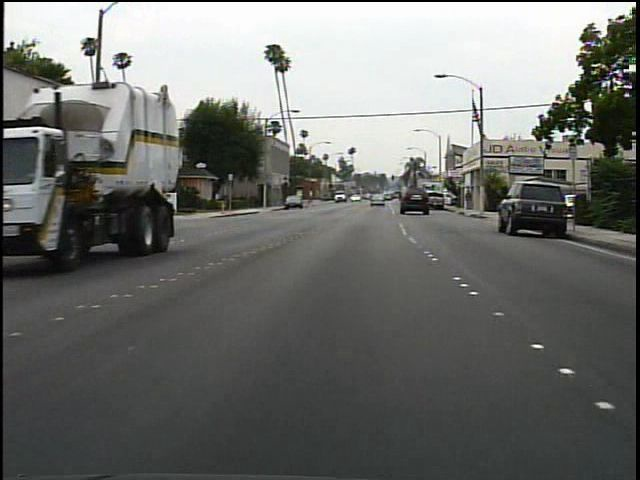person: (460, 187, 478, 216)
